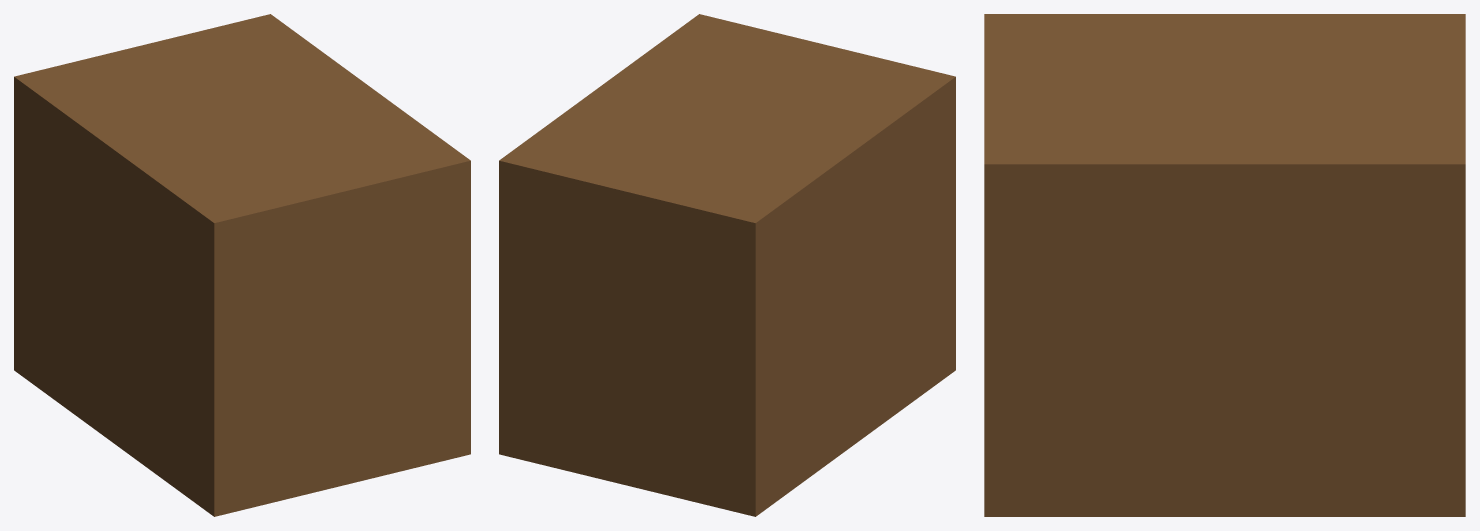
Rendered from plate_block3.gltf.
The picture shows the model from 3 angles, left to right: view 1: azimuth 30°, elevation 25°; view 2: azimuth 150°, elevation 25°; view 3: azimuth 270°, elevation 25°; orthographic projection. The views are drawn at different scales.
Visible parts, largest first — view 1: Cube; view 2: Cube; view 3: Cube.
Part boxes in pixels (<box>): Cube: <box>14,14,470,516</box>; Cube: <box>499,14,955,516</box>; Cube: <box>984,14,1465,516</box>.
Size of the model in its own units: 0.734 by 0.8027 by 0.9923.
